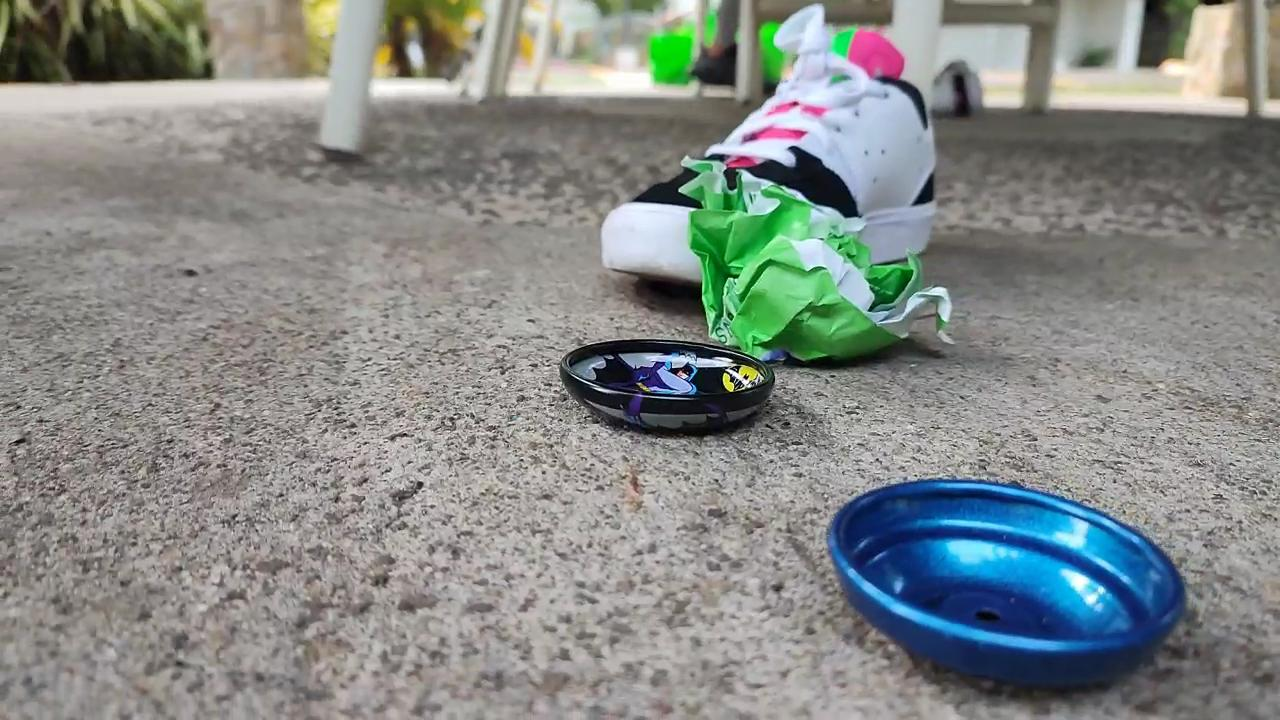Paper: (676, 151, 965, 371)
